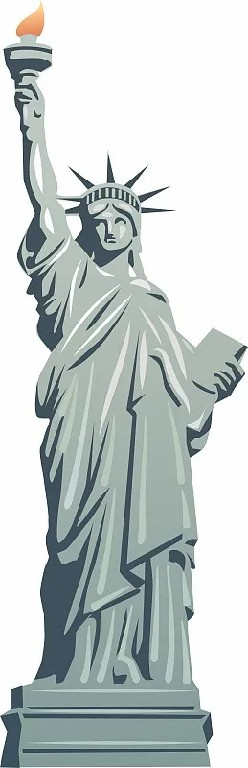SL: (1, 2, 247, 768)
